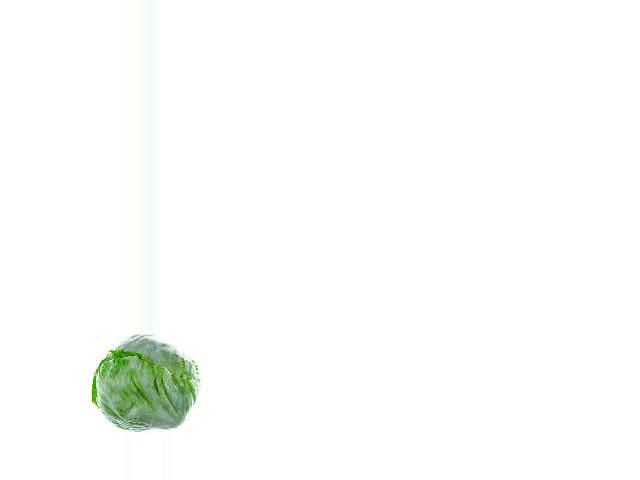lettuce: (93, 336, 198, 426)
